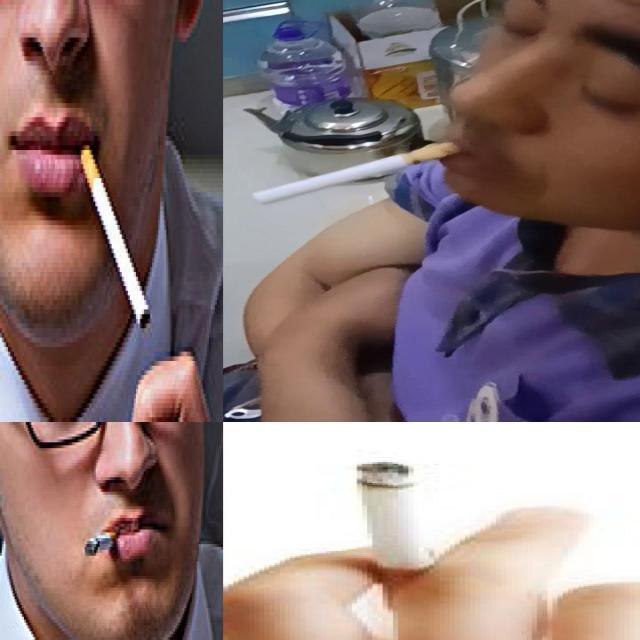smoke: (74, 131, 150, 331), (252, 143, 464, 204), (353, 462, 436, 611), (84, 531, 118, 557)
